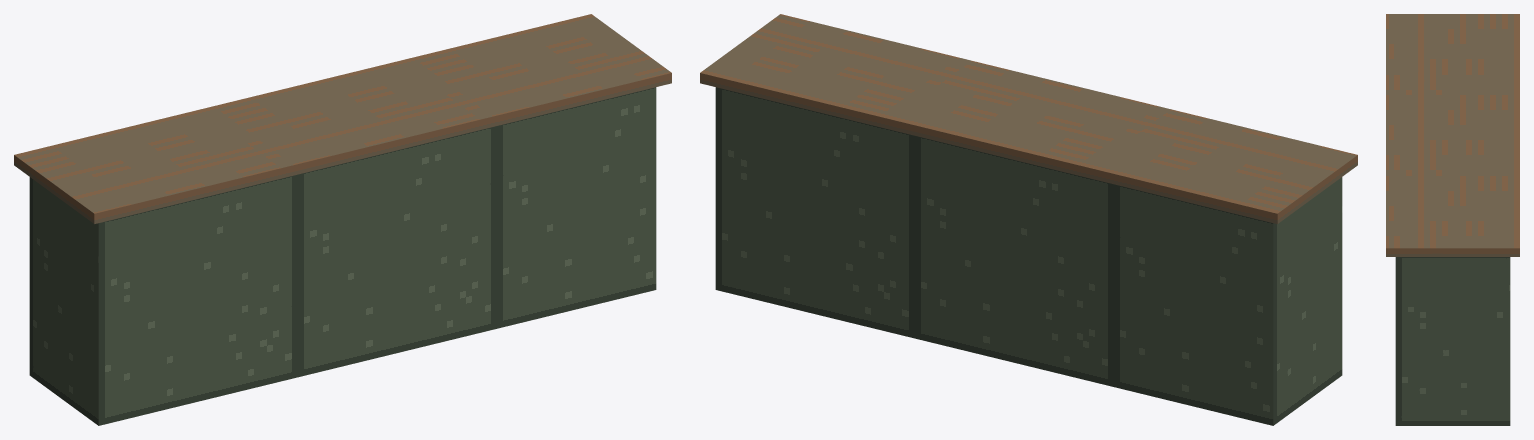
File: merchant_counter.glb
3 renders of one model, left to right at view 1: azimuth 30°, elevation 25°; view 2: azimuth 150°, elevation 25°; view 3: azimuth 270°, elevation 25°, orthographic. The views are drawn at different scales.
Parts seen in each view (by area): view 1: merchant_counter mesh; view 2: merchant_counter mesh; view 3: merchant_counter mesh.
Part boxes in pixels (bbox=[...]): merchant_counter mesh: bbox=[14, 14, 671, 425]; merchant_counter mesh: bbox=[700, 14, 1357, 425]; merchant_counter mesh: bbox=[1386, 14, 1519, 425].
Size of the model in its own units: 2.9 by 1.05 by 0.7.
Materials: 2 (2 with a texture image).
